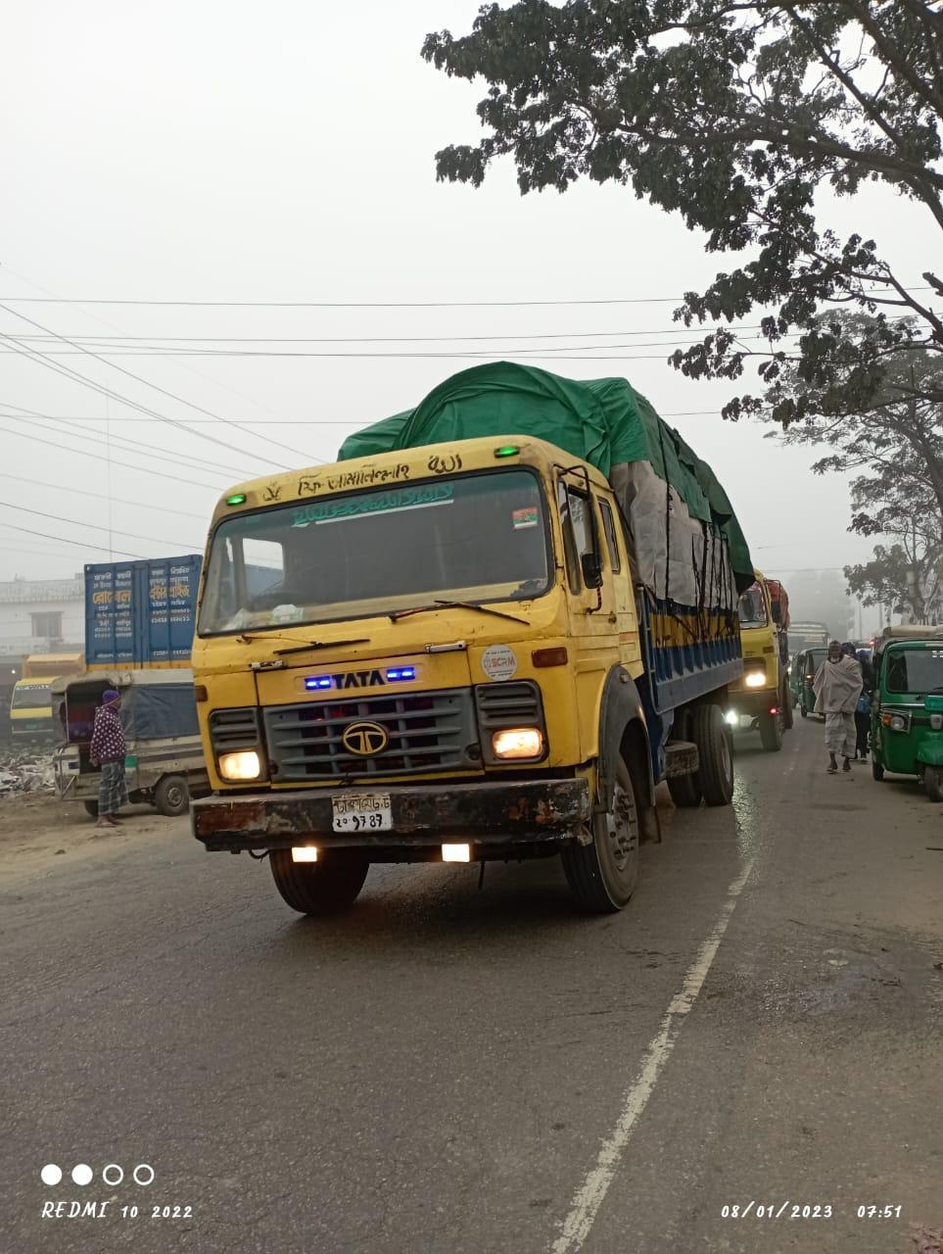Car: (52, 658, 197, 812)
Truck: (193, 365, 745, 893), (67, 554, 204, 685), (734, 560, 801, 759)
